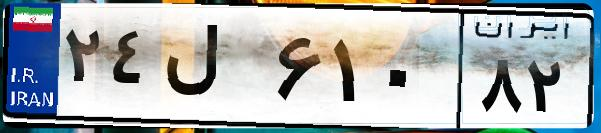0: (385, 28, 445, 110)
1: (330, 28, 385, 110)
2: (57, 26, 110, 100), (525, 38, 570, 115)
4: (110, 28, 158, 98)
6: (270, 28, 330, 110)
8: (475, 38, 525, 113)
ل: (158, 20, 270, 120)
